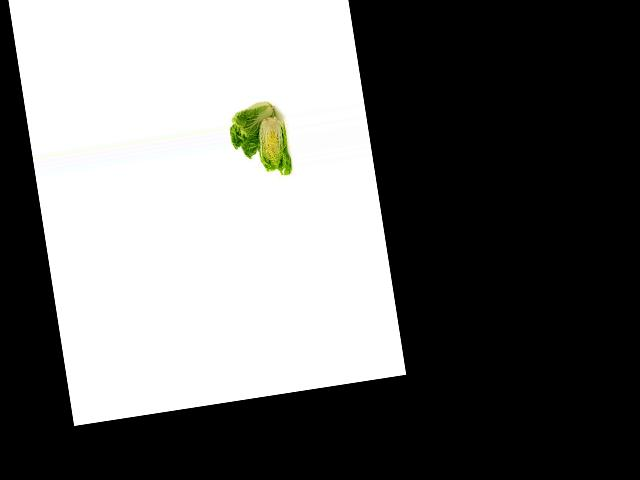lettuce: (223, 98, 285, 164)
